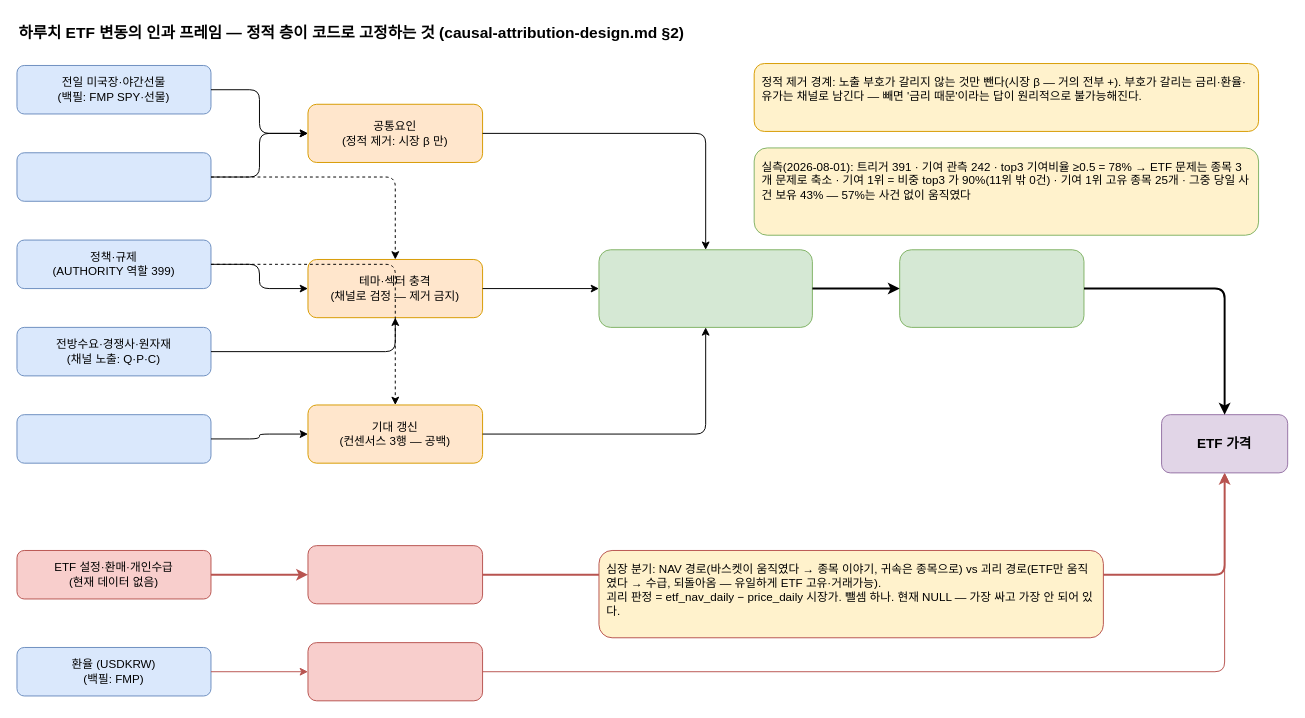
Some shapes in this 1305 by 718 pixel diagram are drawn without their labels. Here are the shapes that lost their labels. From the top down, the box of each, then its label:
(16, 152, 211, 201): 금리·환율·유가 (계열족: 거시)
(598, 249, 812, 327): 구성종목 수익률 r_i = β·f + Σ 채널 + u_i (시간 분해 트리가 여기 붙는다)
(899, 249, 1084, 327): NAV 경로 Σ w_i · r_i (etf_contribution_* 항등식)
(16, 414, 211, 463): 기업 고유사건 (source_event 30,785 · τ 초단위)
(307, 545, 483, 604): 괴리 경로 (premium/discount — NULL)
(307, 642, 483, 701): FX 경로 (해외자산 ETF — NULL)
